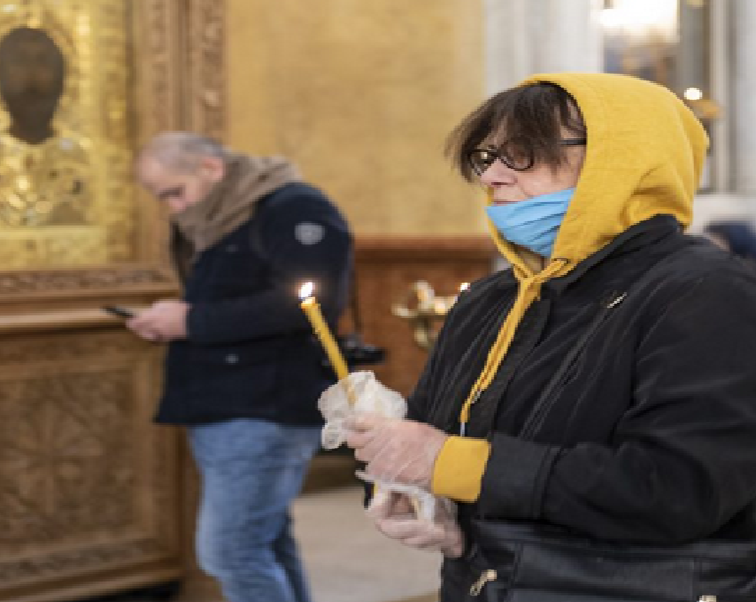mask_weared_incorrect: (463, 72, 700, 257)
